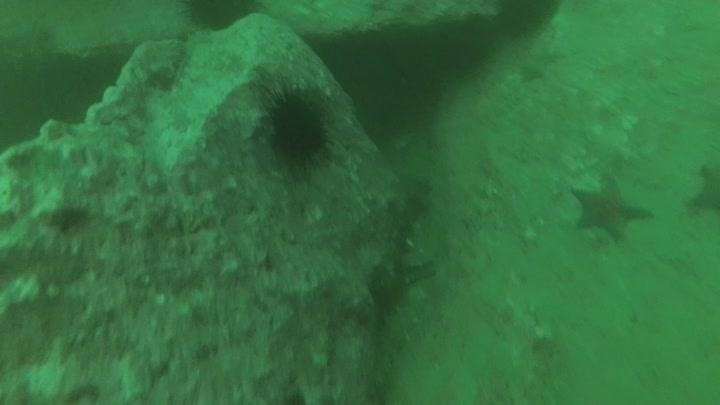echinus: (260, 84, 335, 170), (179, 1, 263, 35), (490, 1, 561, 41)
starfish: (567, 175, 654, 245), (685, 161, 720, 219)
